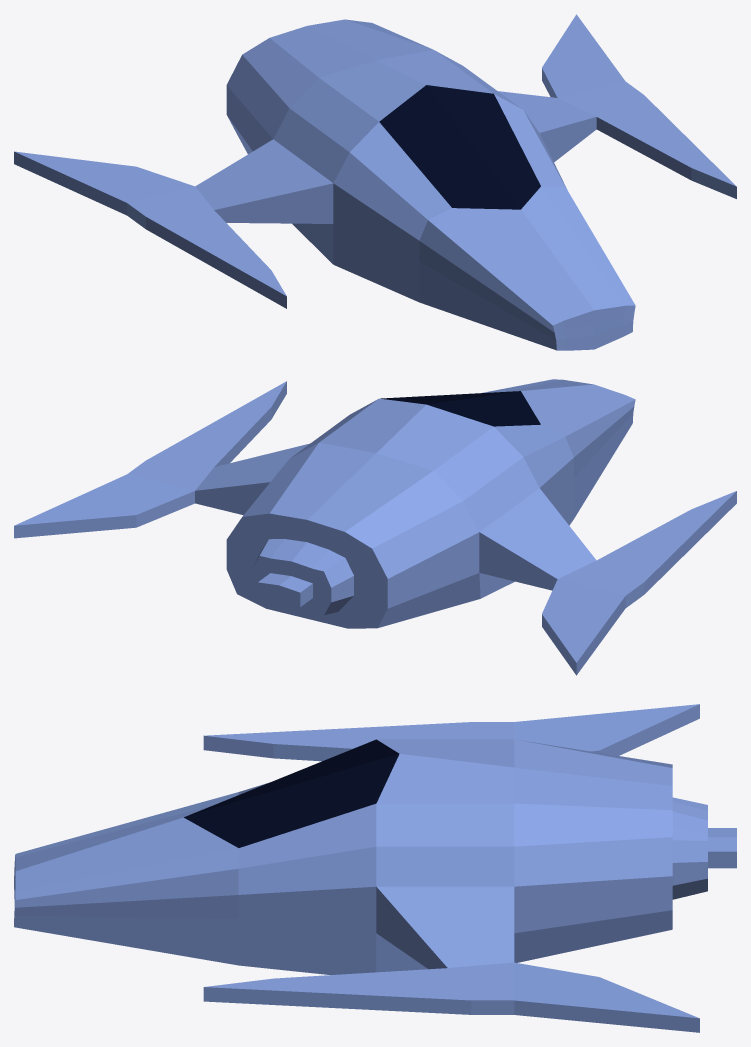
The model's file is flyer.fbx.
3 renders of one model, top to bottom at view 1: azimuth 30°, elevation 25°; view 2: azimuth 150°, elevation 25°; view 3: azimuth 270°, elevation 25°, orthographic. The views are drawn at different scales.
Visible parts, largest first — view 1: Cube; view 2: Cube; view 3: Cube.
Part boxes in pixels (x1,y1,x2,y2): Cube: [14, 14, 736, 350]; Cube: [14, 379, 736, 675]; Cube: [14, 704, 736, 1032].
Size of the model in its own units: 515 by 129 by 500.
